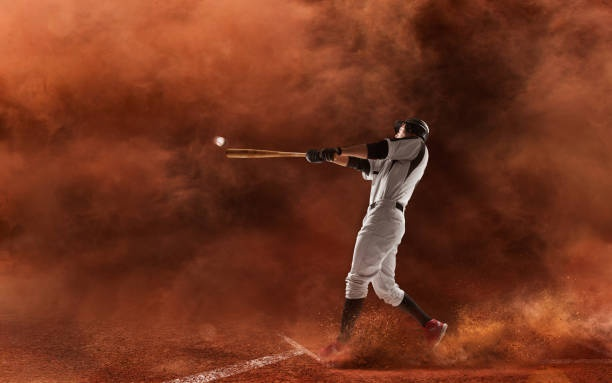bita: (224, 147, 337, 160)
